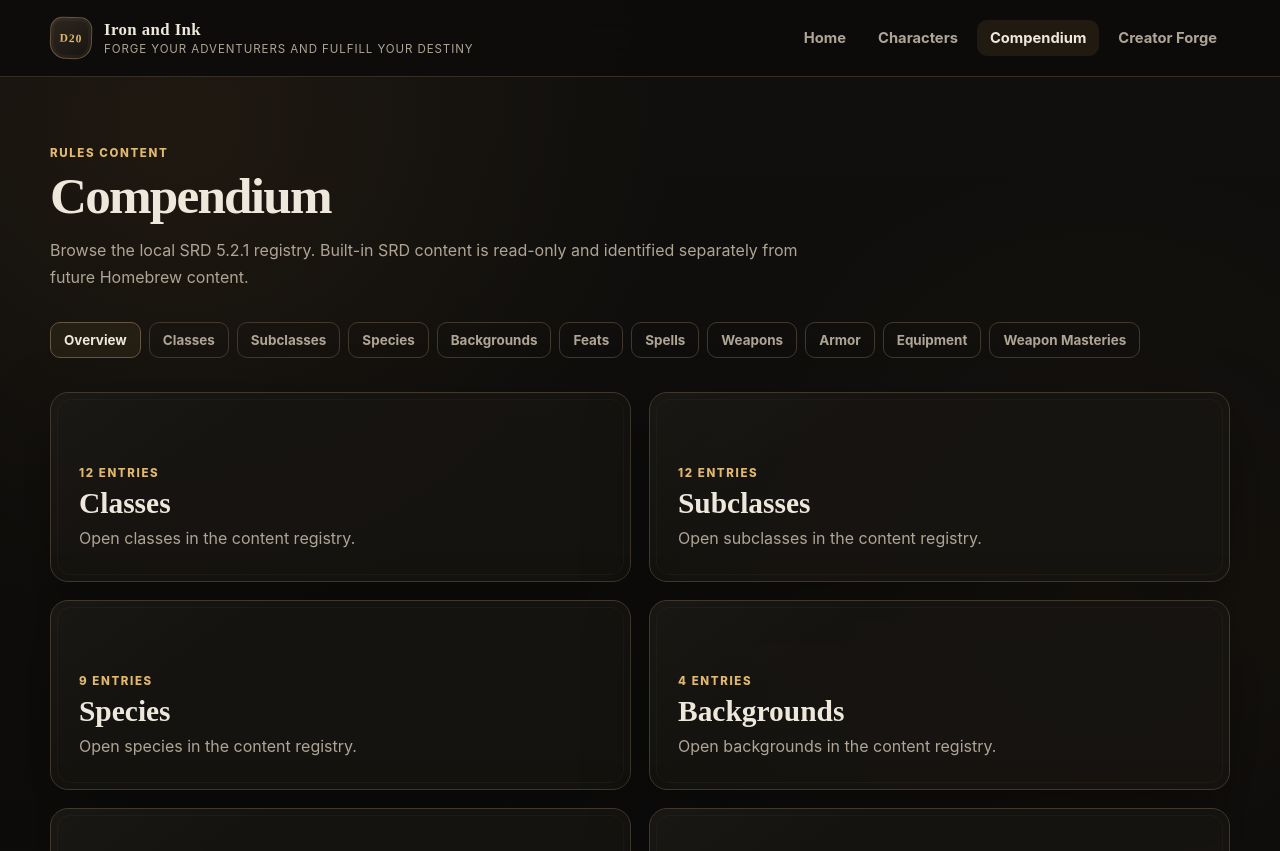
Scenario: Milestone 7 Compendium integration › browses Species and Background list/detail pages through the existing Compendium shell
The width and height of the screenshot is (1280, 851).
Check: the link "4 entries Backgrounds" is shown, box [649,600,1230,790]
Click the link "9 entries Species Open species in the content registry." at (121,681), box [50,600,631,790]
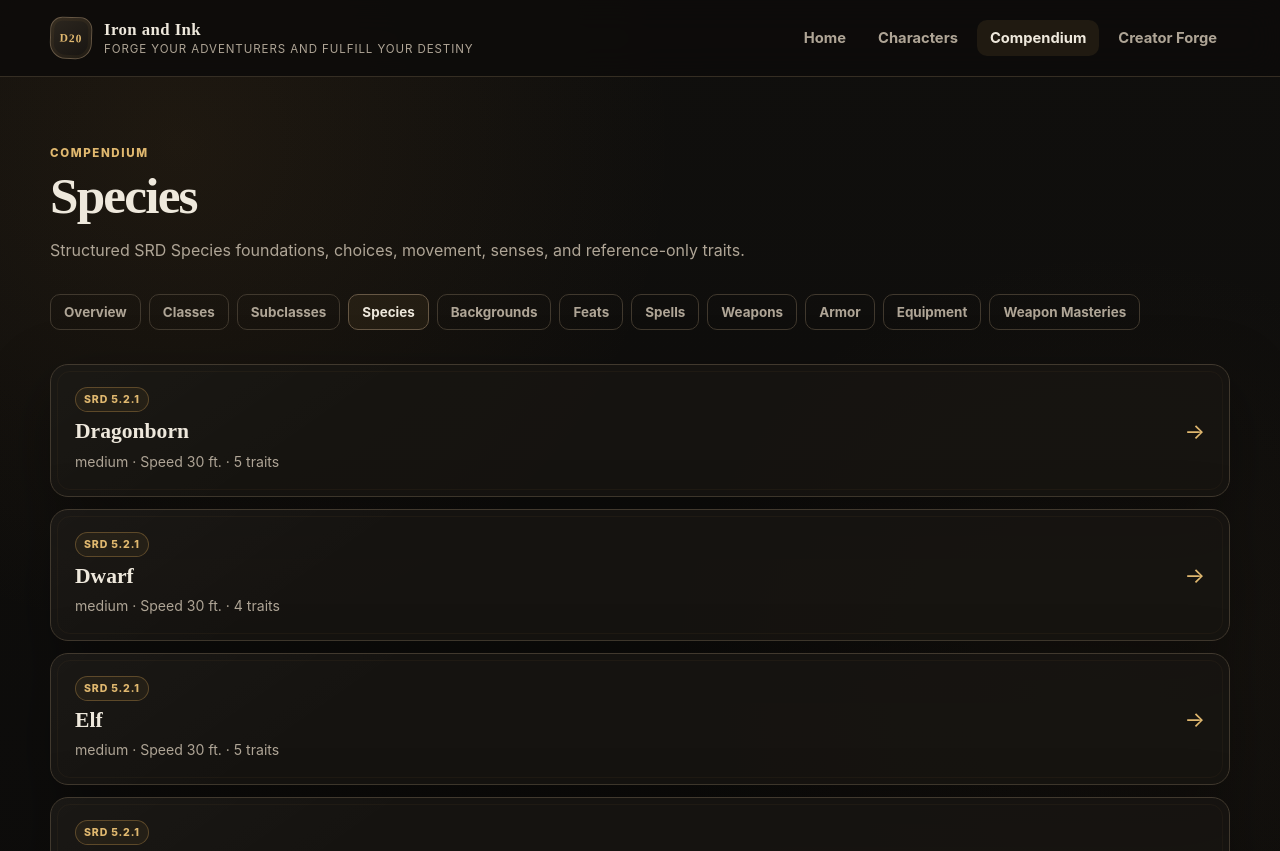
Check: the heading "Species" is shown, box [50,167,197,224]
Click the link "SRD 5.2.1 Elf medium · Speed 30 ft. · 5 traits →" at (640,719), box [50,653,1230,785]
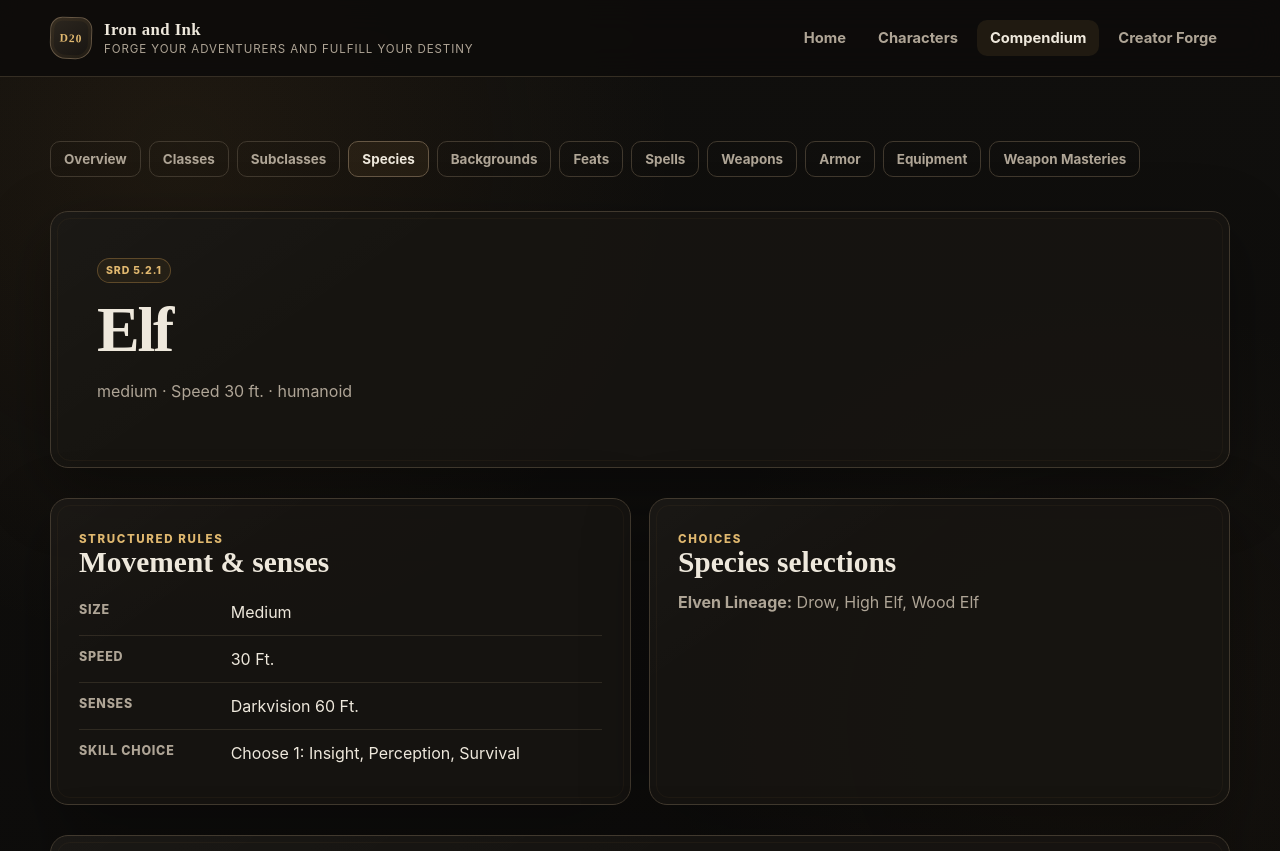
Check: the heading "Elf" is shown, box [97,294,172,365]
Check: the element "Species selections" is shown, box [649,498,1230,805]
Check: the text "Elven Lineage: Drow, High Elf, Wood Elf" is shown, box [678,592,979,612]
Click the link "Backgrounds" at (494,159), box [437,141,551,177]
(page scrolled)
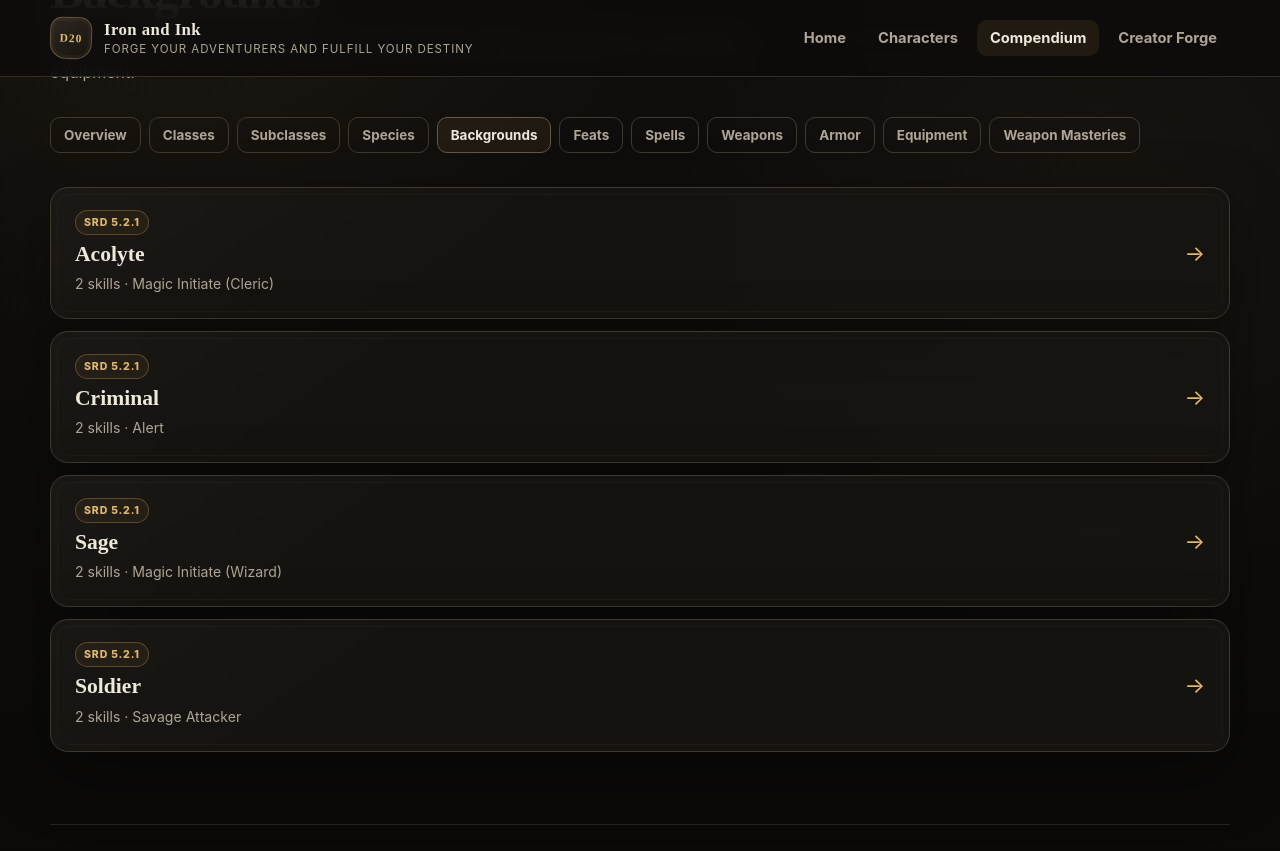
Click the link "SRD 5.2.1 Soldier 2 skills · Savage Attacker →" at (640,686), box [50,619,1230,752]
(page scrolled)
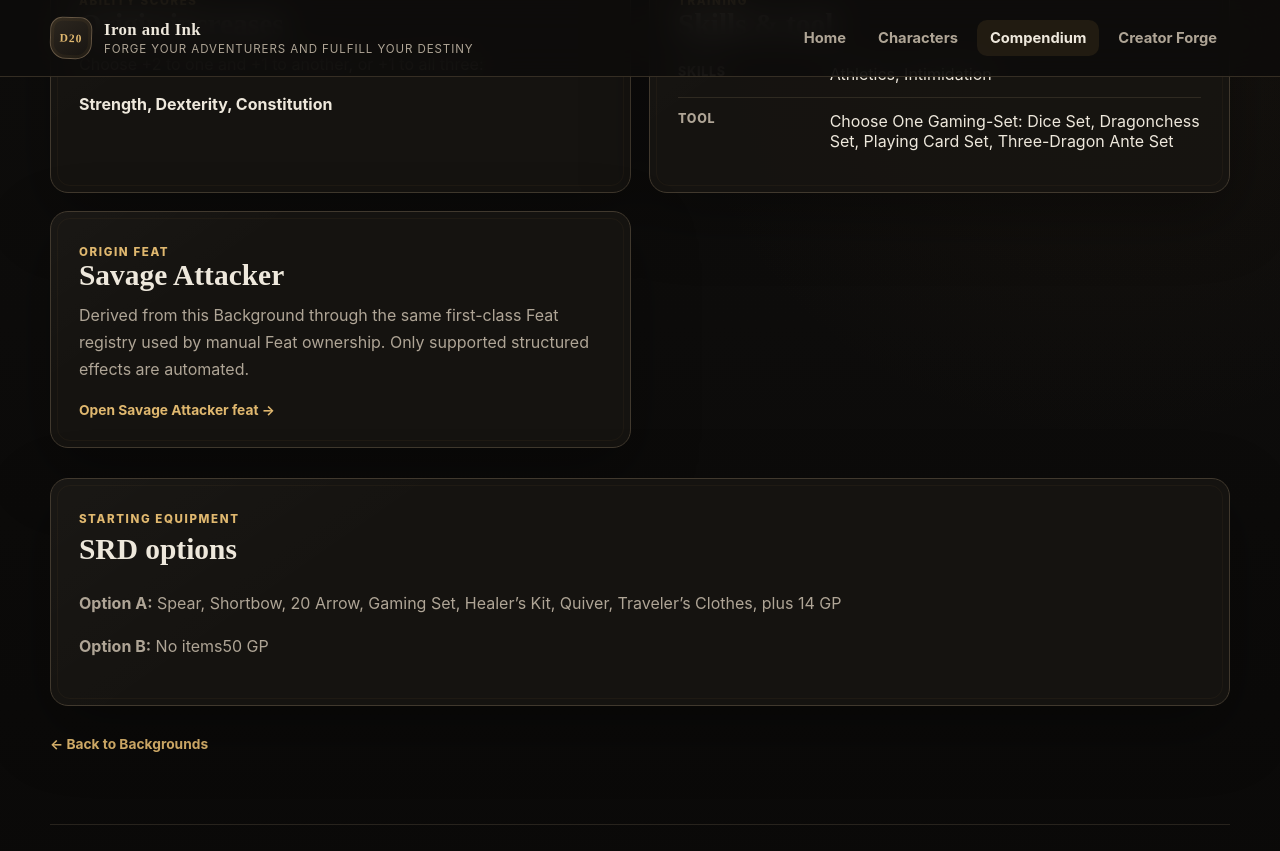
Check: the heading "Savage Attacker" is shown, box [79,259,284,291]
Check: the text "Athletics, Intimidation" is shown, box [830,64,992,84]
Check: the text "Option A:" is shown, box [79,593,152,613]
